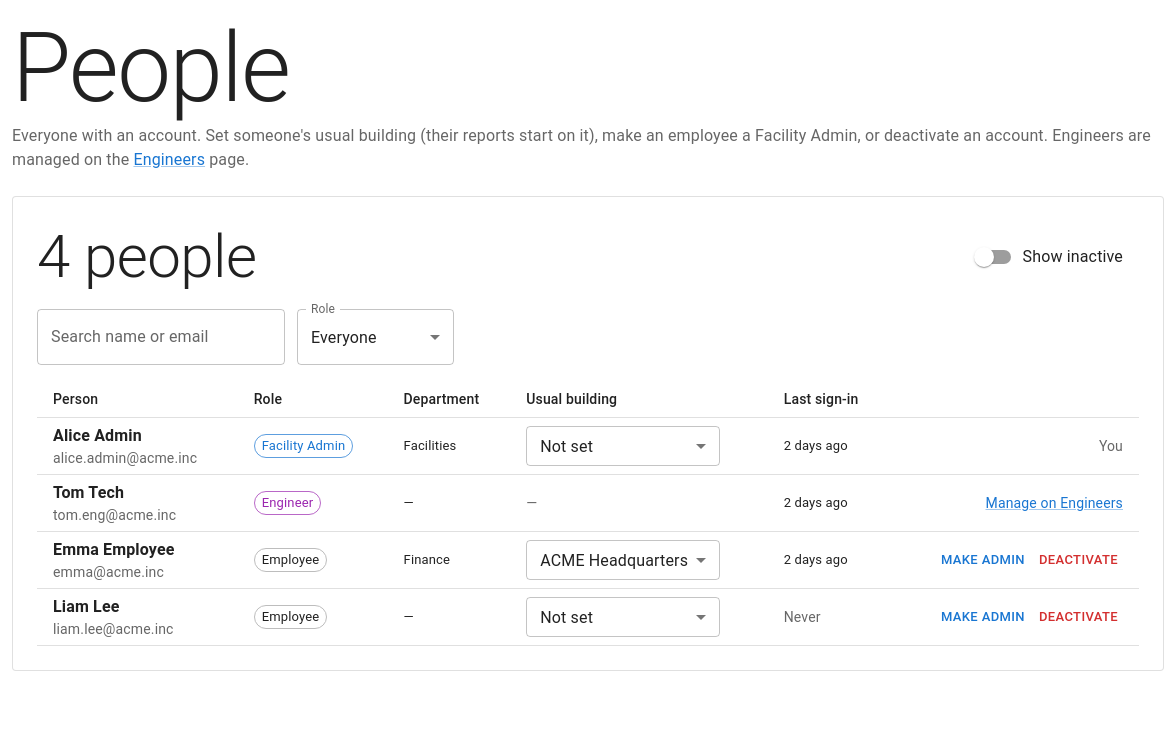
People admin page › deactivates an account and hides it unless inactive people are shown
Later steps or results of the test are not shown.
Click the button "Deactivate" in the row of "Liam Lee" at [1078, 617], box [1034,602,1123,632]
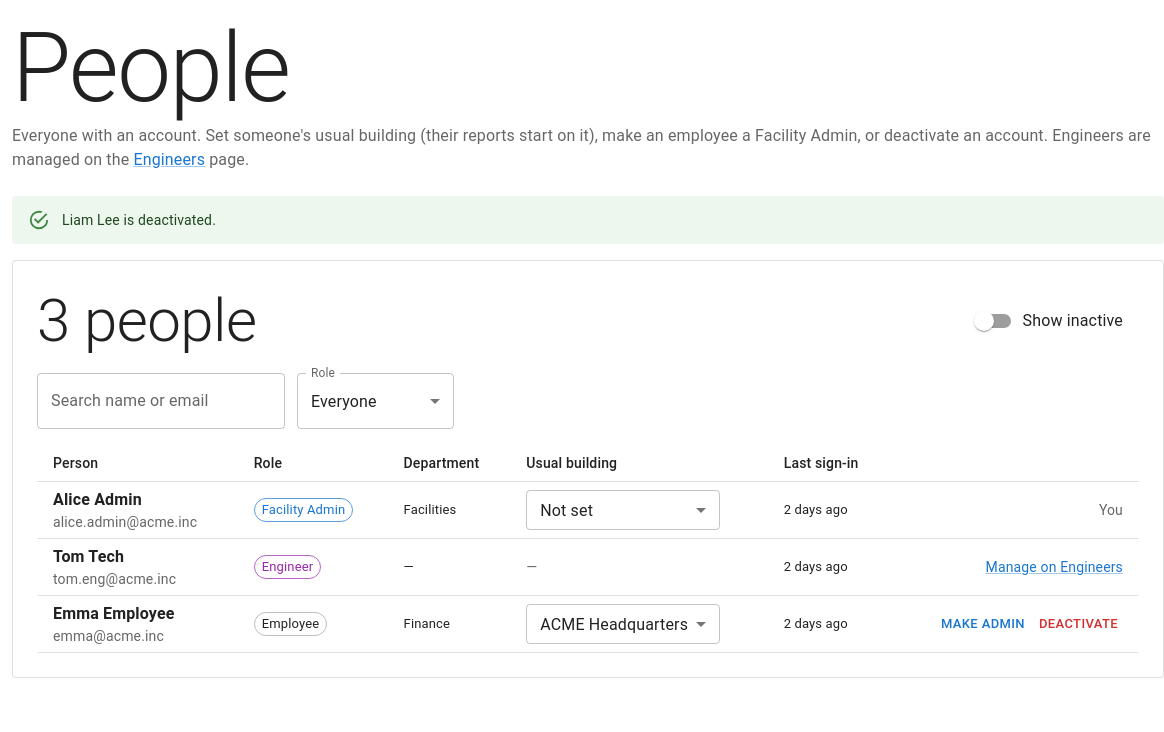
Expected: the message reads "Liam Lee is deactivated.", [62,212,216,228]
